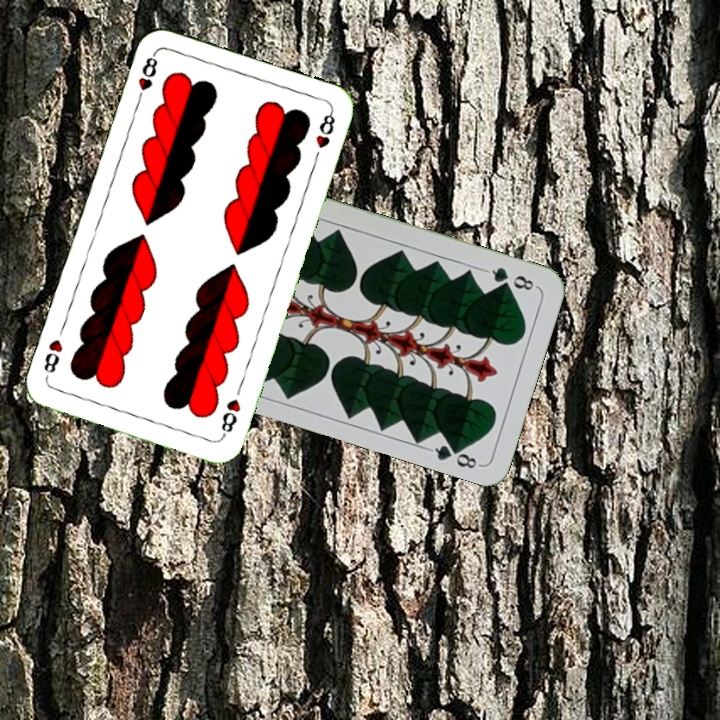G8: (482, 263, 540, 295)
H8: (133, 49, 160, 107), (217, 394, 243, 441)
